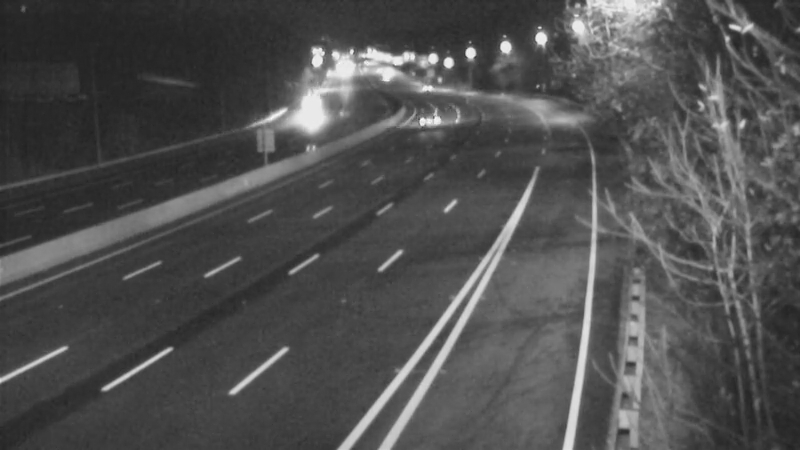vehicle: (400, 63, 450, 113), (403, 92, 453, 142), (284, 82, 334, 132)
